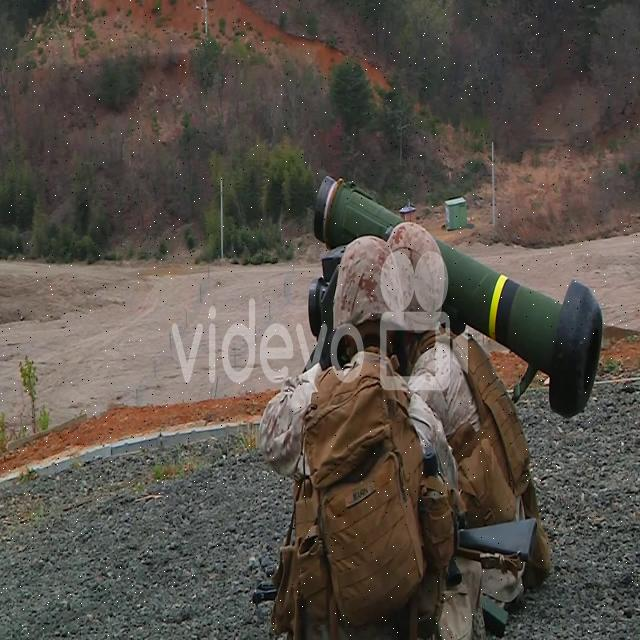bazooka: (308, 169, 605, 435)
